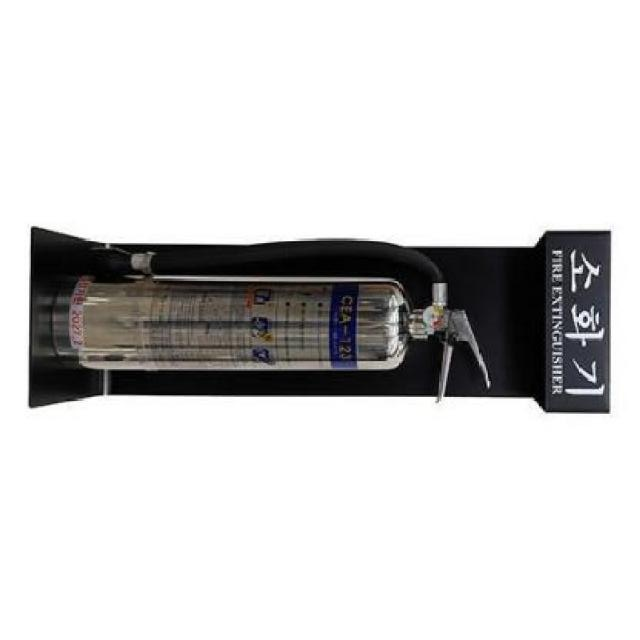fire extinguisher: (52, 237, 492, 403)
